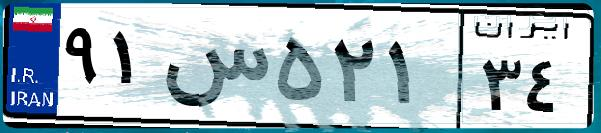1: (385, 28, 445, 110), (110, 28, 158, 98)
2: (330, 28, 385, 110)
3: (475, 38, 525, 113)
4: (525, 38, 570, 115)
5: (270, 28, 330, 110)
9: (57, 26, 110, 100)
س: (158, 20, 270, 120)
